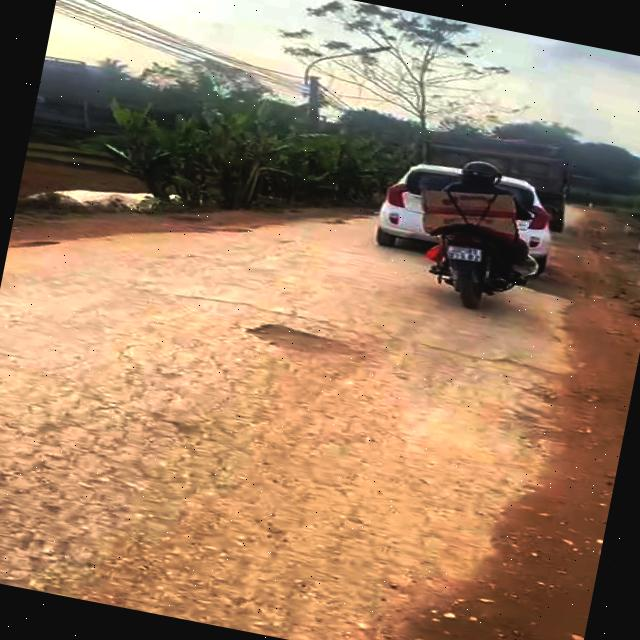pothole: (235, 314, 360, 367)
